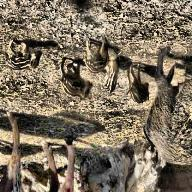boar: (3, 32, 48, 76), (52, 66, 98, 100), (82, 33, 115, 77), (126, 67, 155, 115), (99, 57, 128, 98)
